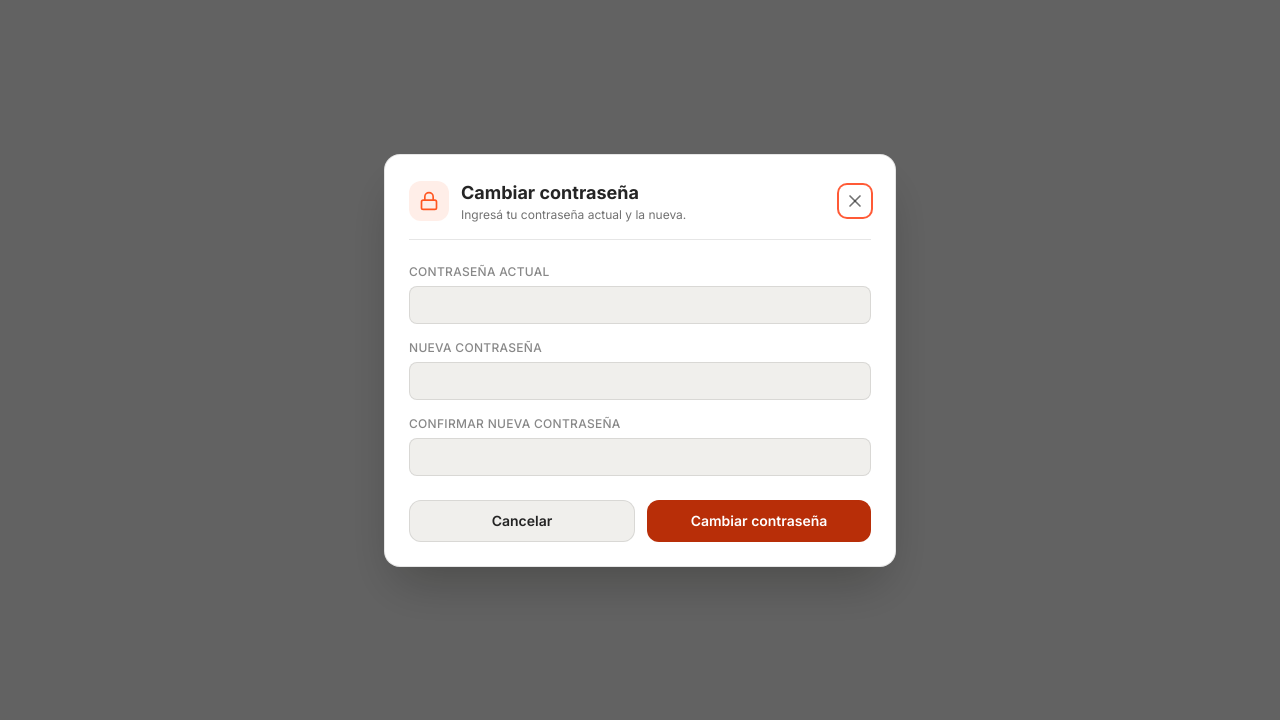
ChangePasswordModal › shows validation error when passwords do not match
Type "OldPass123!" into the 1st password field at (640, 304), box [409, 286, 871, 324]
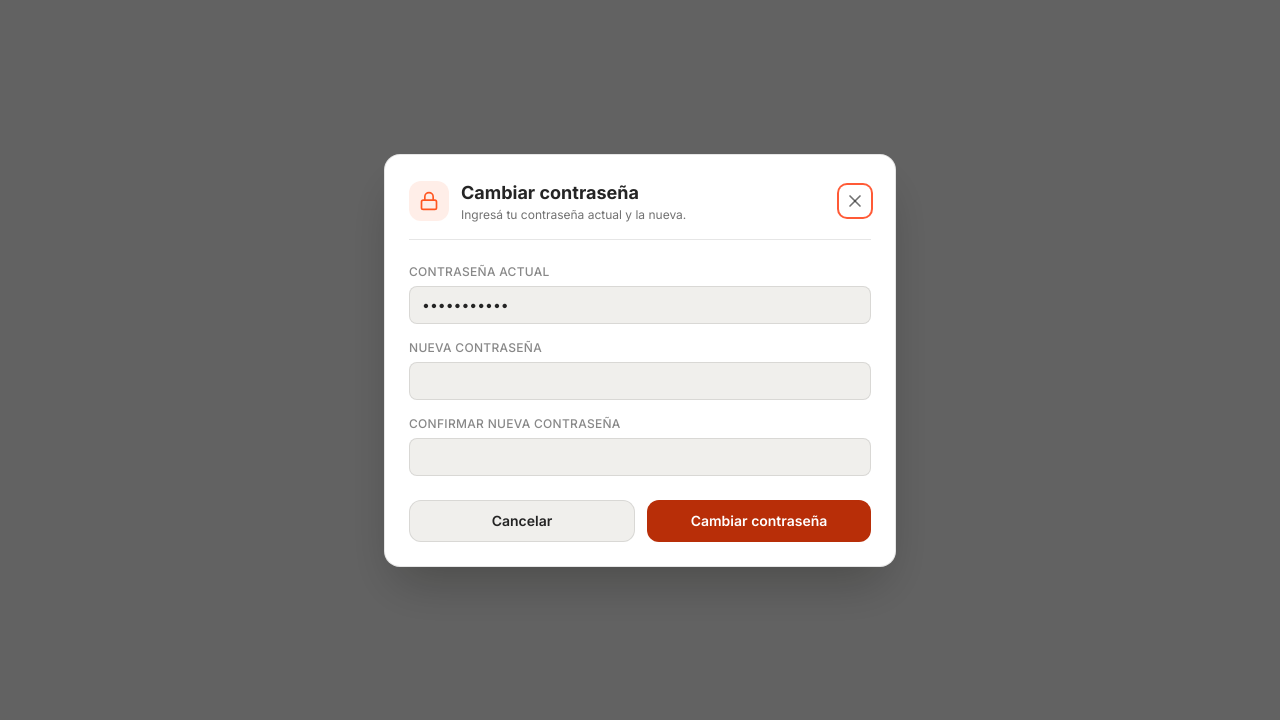
Type "NewPass123!" into the 2nd password field at (640, 380), box [409, 362, 871, 400]
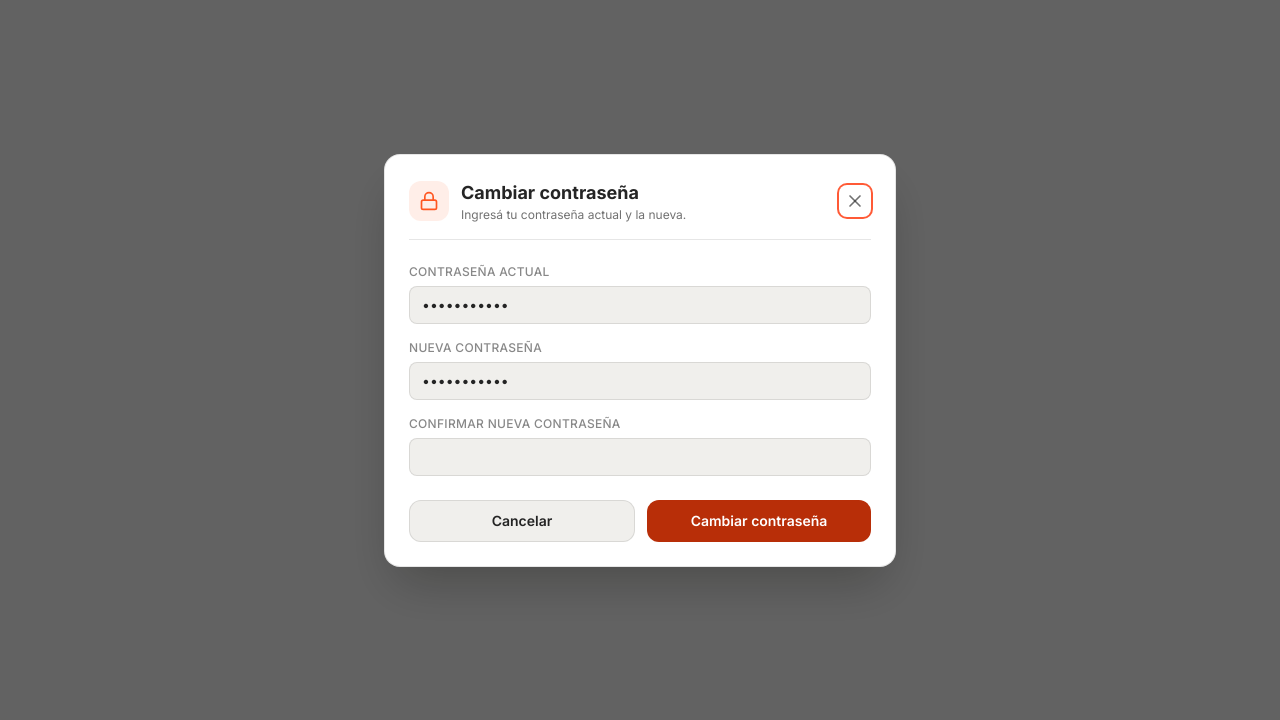
Type "Mismatch999!" into the password field below "Confirmar nueva contraseña" at (640, 456), box [409, 438, 871, 476]
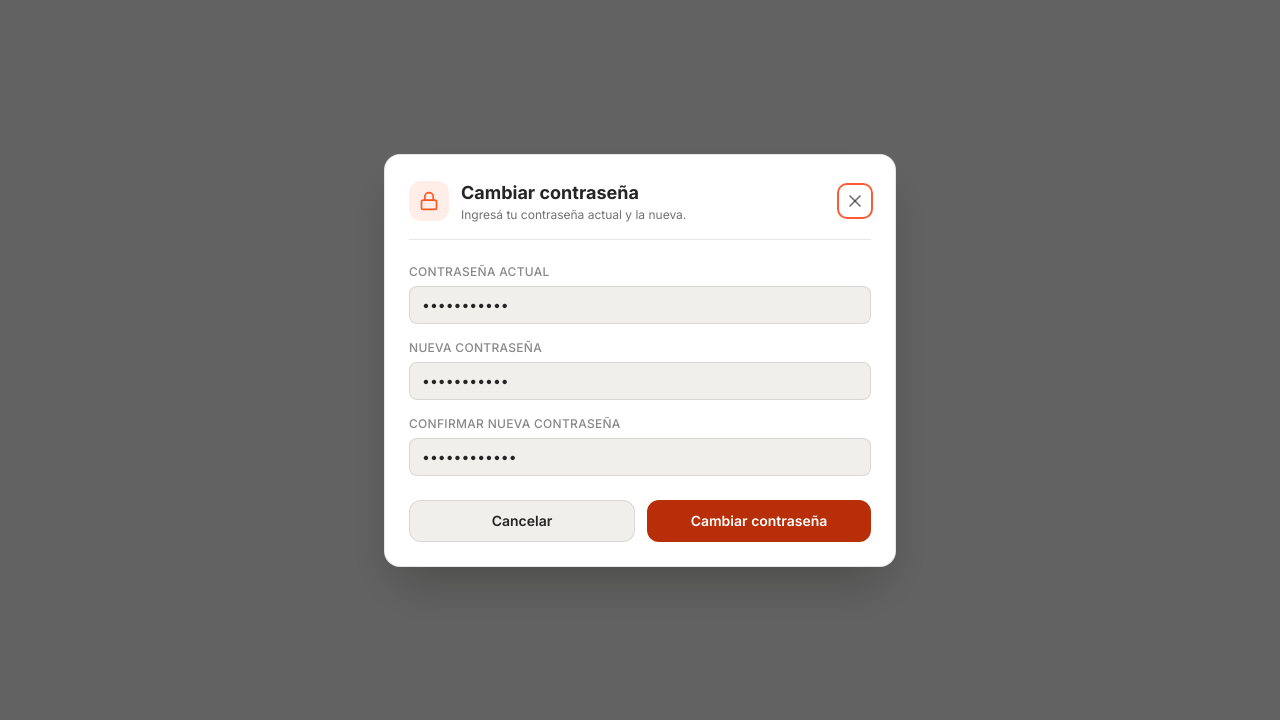
Click the button "Cambiar contraseña" at (759, 520), box [647, 500, 871, 542]
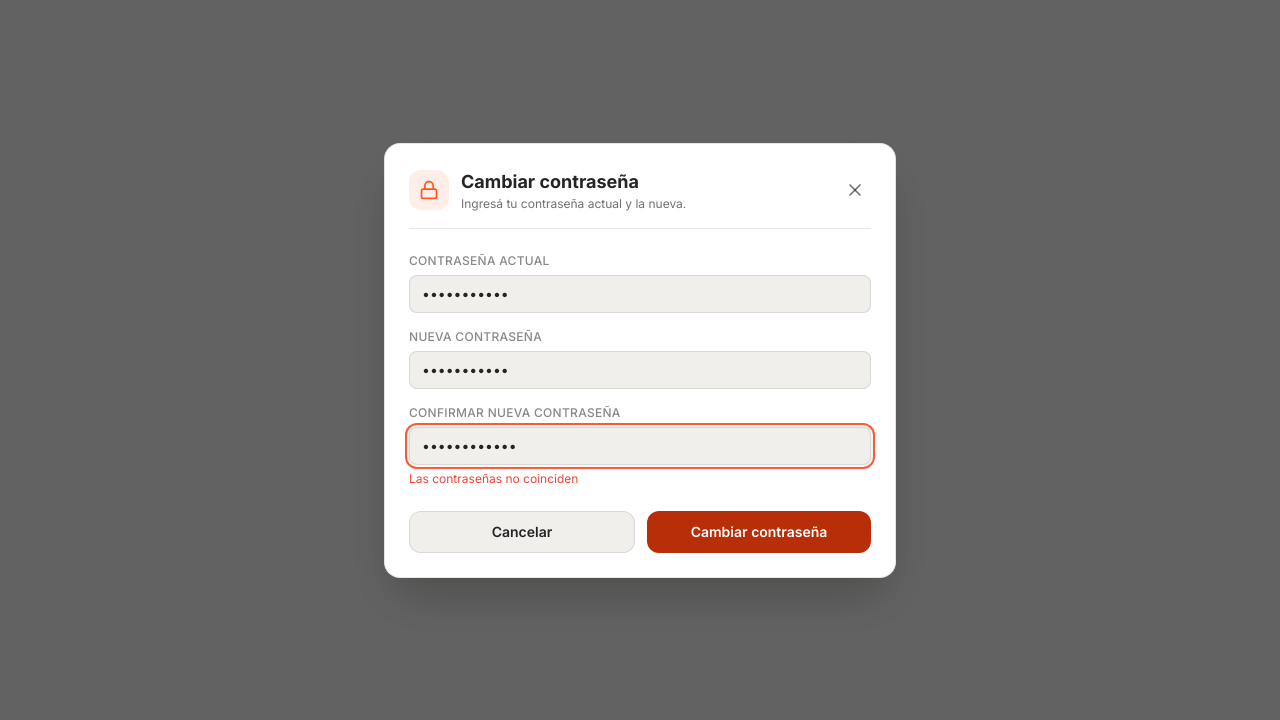
Check: the text "Las contraseñas no coinciden" is shown, box [409, 470, 578, 486]
